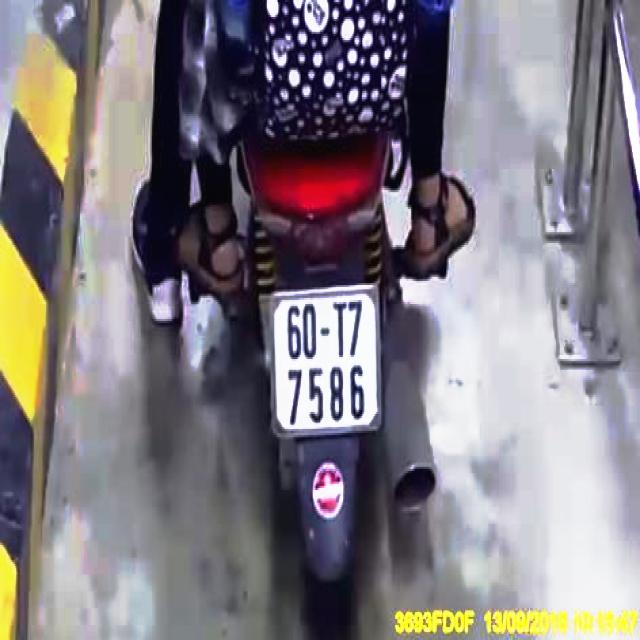license_plate: (269, 289, 382, 430)
